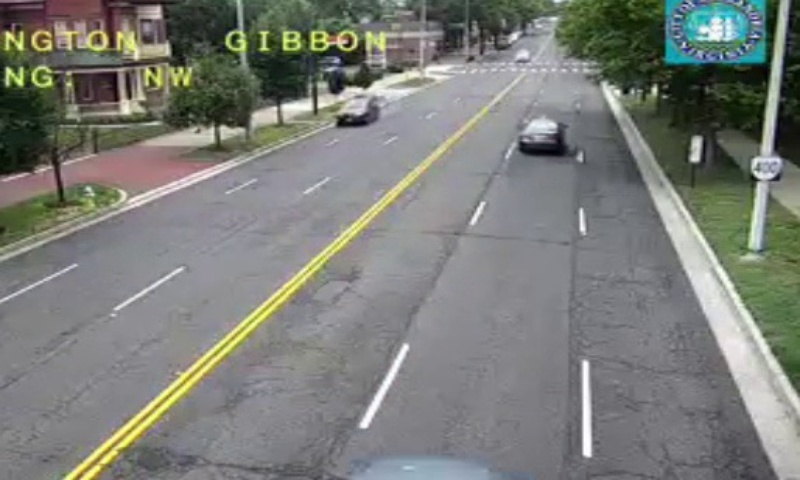car: (518, 120, 564, 150)
